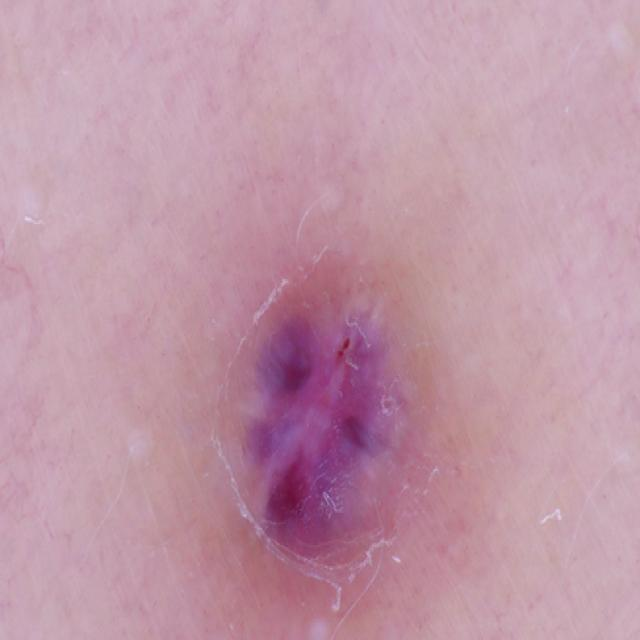Vascular Lesions: (216, 250, 415, 637)
